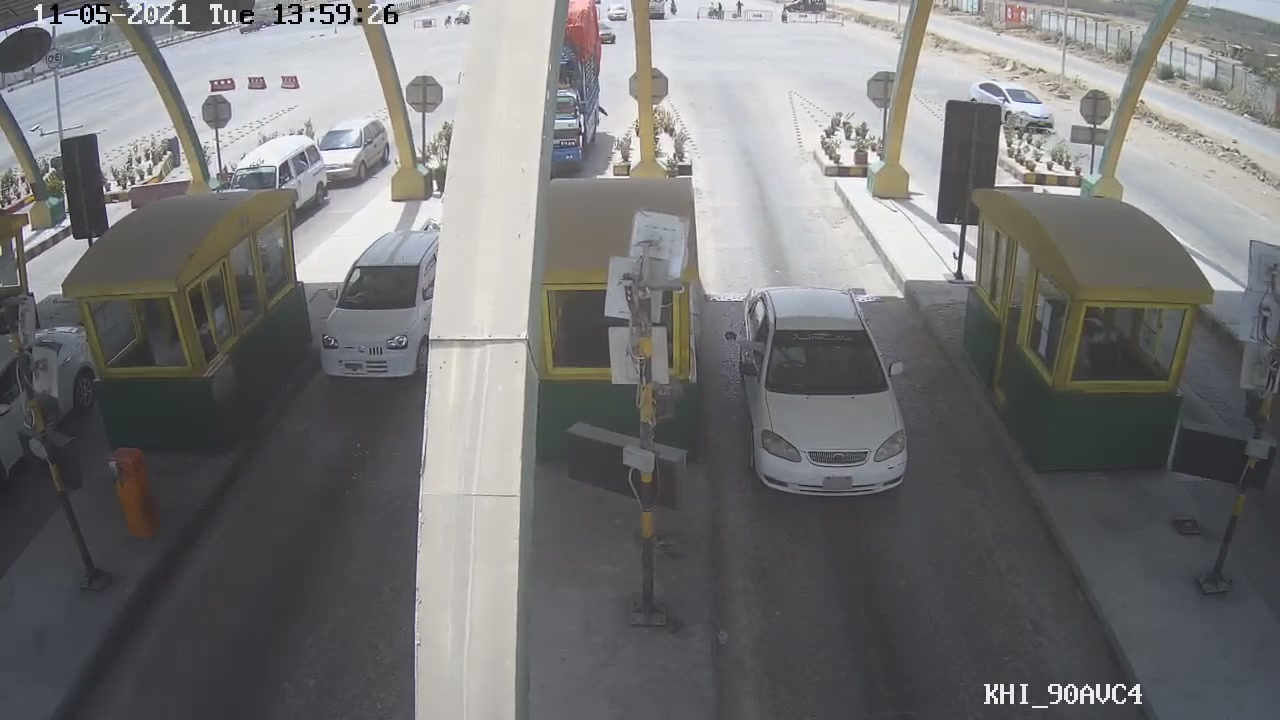F1: (727, 284, 913, 507)
